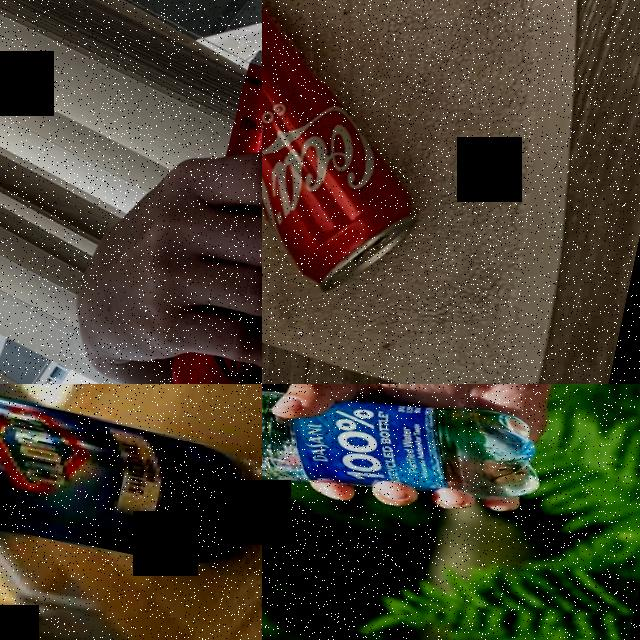bottle: (262, 384, 553, 540)
can: (262, 0, 463, 306), (0, 384, 262, 588), (159, 43, 262, 384)
